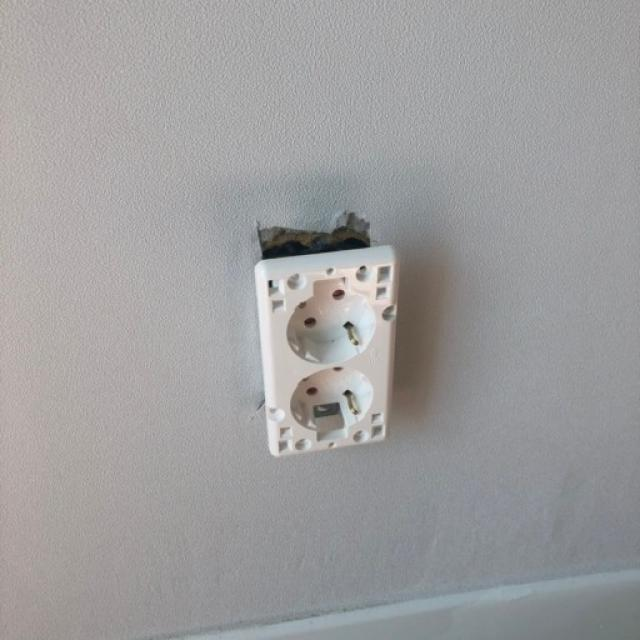typeb: (230, 227, 457, 502)
